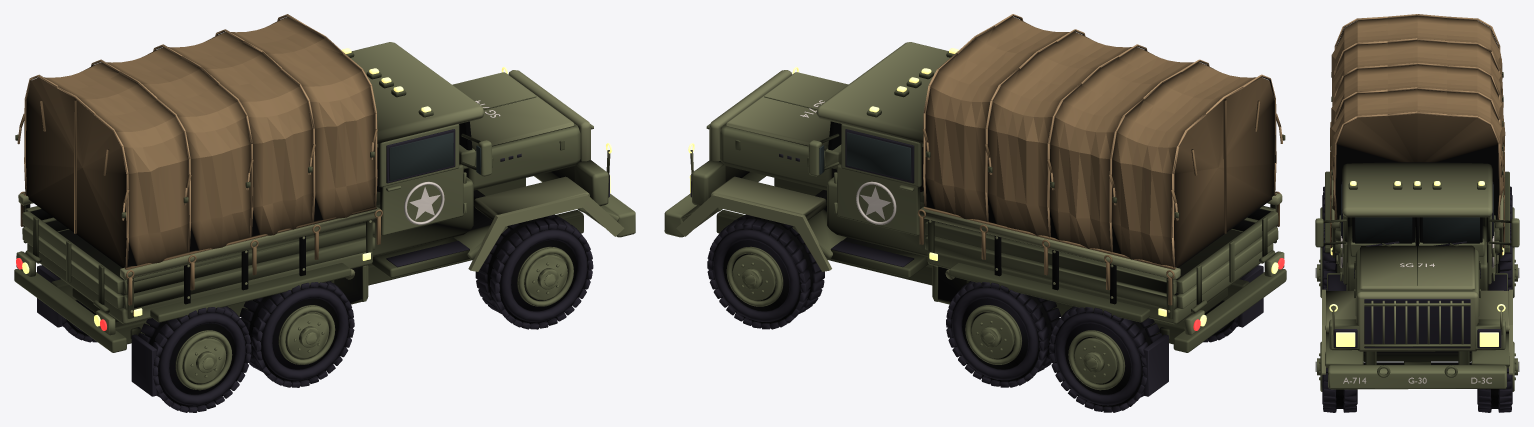
File: veh.military-truck.glb
3 renders of one model, left to right at view 1: azimuth 30°, elevation 25°; view 2: azimuth 150°, elevation 25°; view 3: azimuth 270°, elevation 25°, orthographic. The views are drawn at different scales.
Parts seen in each view (by area): view 1: body, wheelFL, wheelML, wheelRL, doorL, tailgate; view 2: body, wheelFR, wheelMR, wheelRR, doorR, tailgate; view 3: body, wheelFL, wheelFR, doorR, doorL, lightsFront, wheelMR, wheelML.
Boxes of the visible parts, x1=… form: body: x1=14, y1=14, x2=635, y2=396; wheelFL: x1=475, y1=214, x2=593, y2=329; wheelML: x1=239, y1=281, x2=354, y2=387; wheelRL: x1=138, y1=306, x2=251, y2=412; doorL: x1=378, y1=124, x2=491, y2=235; tailgate: x1=22, y1=211, x2=123, y2=313; body: x1=664, y1=14, x2=1286, y2=396; wheelFR: x1=707, y1=214, x2=824, y2=329; wheelMR: x1=946, y1=281, x2=1060, y2=387; wheelRR: x1=1049, y1=306, x2=1162, y2=412; doorR: x1=808, y1=124, x2=922, y2=235; tailgate: x1=1177, y1=211, x2=1278, y2=313; body: x1=1322, y1=14, x2=1512, y2=389; wheelFL: x1=1315, y1=341, x2=1357, y2=412; wheelFR: x1=1477, y1=341, x2=1519, y2=412; doorR: x1=1486, y1=182, x2=1519, y2=284; doorL: x1=1315, y1=182, x2=1348, y2=284; lightsFront: x1=1329, y1=304, x2=1505, y2=346; wheelMR: x1=1497, y1=227, x2=1519, y2=297; wheelML: x1=1315, y1=227, x2=1337, y2=297.
Bounding box in the file's own units: 6.93 × 3.65 × 2.9.
